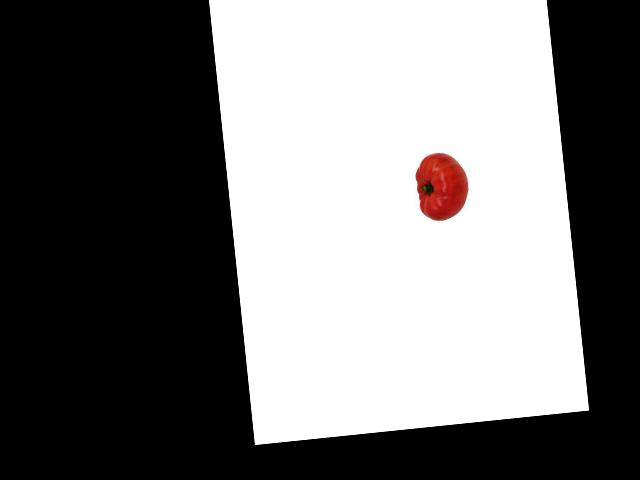tomato: (414, 149, 471, 222)
